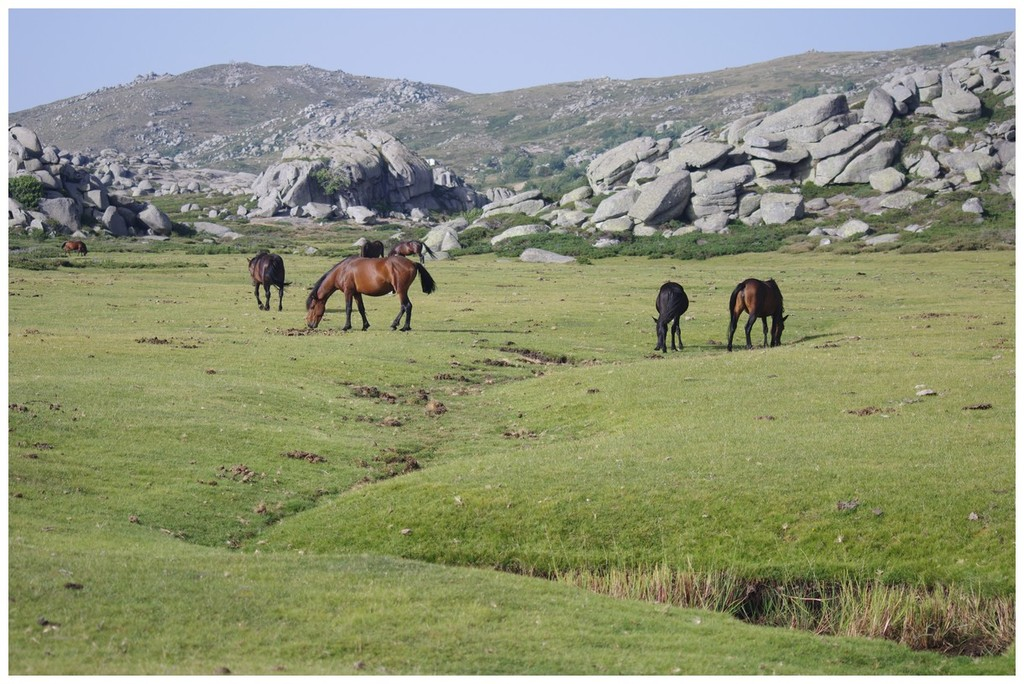horse: (305, 255, 433, 328), (728, 278, 789, 348), (650, 281, 689, 355), (245, 253, 289, 313), (388, 241, 433, 261), (59, 241, 88, 257)
